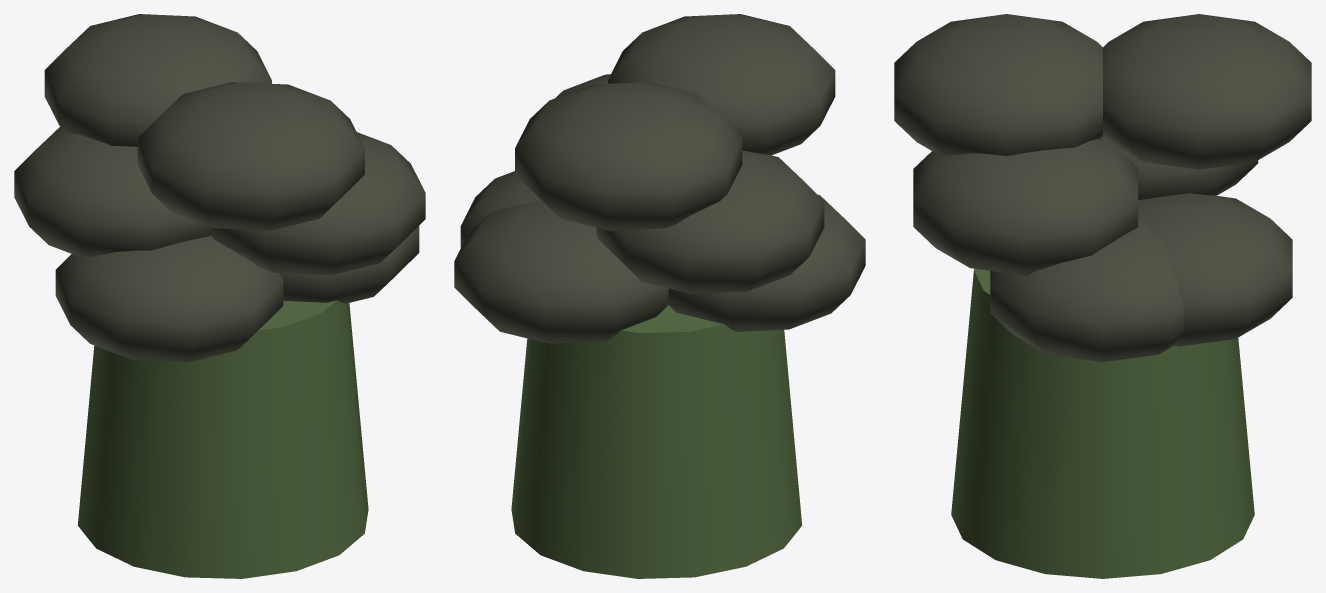
File: plant-front.glb
3 views of the same model, side by side, from view 1: azimuth 30°, elevation 25°; view 2: azimuth 150°, elevation 25°; view 3: azimuth 270°, elevation 25° (orthographic). The views are drawn at different scales.
Parts seen in each view (by area): view 1: REF-L01-R01-plant-front-part-1, REF-L01-R01-plant-front-part-4, REF-L01-R01-plant-front-part-5, REF-L01-R01-plant-front-part-7, REF-L01-R01-plant-front-part-6, REF-L01-R01-plant-front-part-3, REF-L01-R01-plant-front-part-2; view 2: REF-L01-R01-plant-front-part-1, REF-L01-R01-plant-front-part-7, REF-L01-R01-plant-front-part-8, REF-L01-R01-plant-front-part-4, REF-L01-R01-plant-front-part-6, REF-L01-R01-plant-front-part-5, REF-L01-R01-plant-front-part-2; view 3: REF-L01-R01-plant-front-part-1, REF-L01-R01-plant-front-part-7, REF-L01-R01-plant-front-part-4, REF-L01-R01-plant-front-part-3, REF-L01-R01-plant-front-part-2, REF-L01-R01-plant-front-part-8, REF-L01-R01-plant-front-part-6.
Part boxes in pixels (x1,y1,x2,y2): REF-L01-R01-plant-front-part-1: (77,300,368,578); REF-L01-R01-plant-front-part-4: (137,82,364,230); REF-L01-R01-plant-front-part-5: (55,236,283,362); REF-L01-R01-plant-front-part-7: (44,14,271,146); REF-L01-R01-plant-front-part-6: (14,126,211,257); REF-L01-R01-plant-front-part-3: (211,132,425,275); REF-L01-R01-plant-front-part-2: (280,226,419,303); REF-L01-R01-plant-front-part-1: (511,305,802,578); REF-L01-R01-plant-front-part-7: (515,82,742,230); REF-L01-R01-plant-front-part-8: (454,199,668,343); REF-L01-R01-plant-front-part-4: (608,14,835,155); REF-L01-R01-plant-front-part-6: (596,150,824,293); REF-L01-R01-plant-front-part-5: (668,195,865,331); REF-L01-R01-plant-front-part-2: (460,171,539,247); REF-L01-R01-plant-front-part-1: (951,268,1254,578); REF-L01-R01-plant-front-part-7: (1103,14,1311,169); REF-L01-R01-plant-front-part-4: (894,14,1102,155); REF-L01-R01-plant-front-part-3: (913,138,1138,275); REF-L01-R01-plant-front-part-2: (990,219,1183,362); REF-L01-R01-plant-front-part-8: (1138,193,1292,346); REF-L01-R01-plant-front-part-6: (1100,137,1258,199).
Size of the model in its own units: 0.1272 by 0.1568 by 0.1252.
